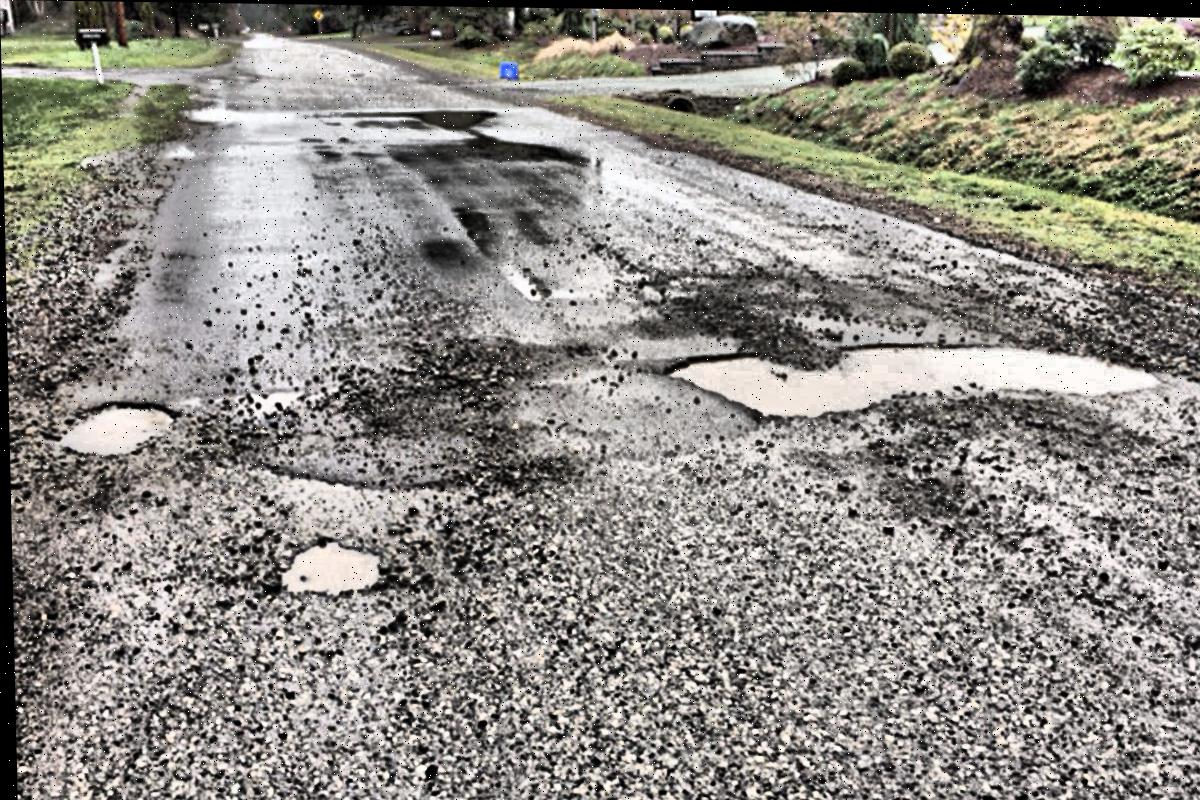pothole: (648, 342, 1164, 426), (54, 398, 183, 464), (273, 532, 381, 599)
